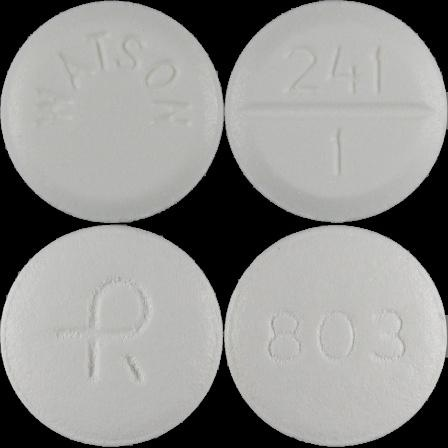51655-822: (0, 0, 224, 224)
